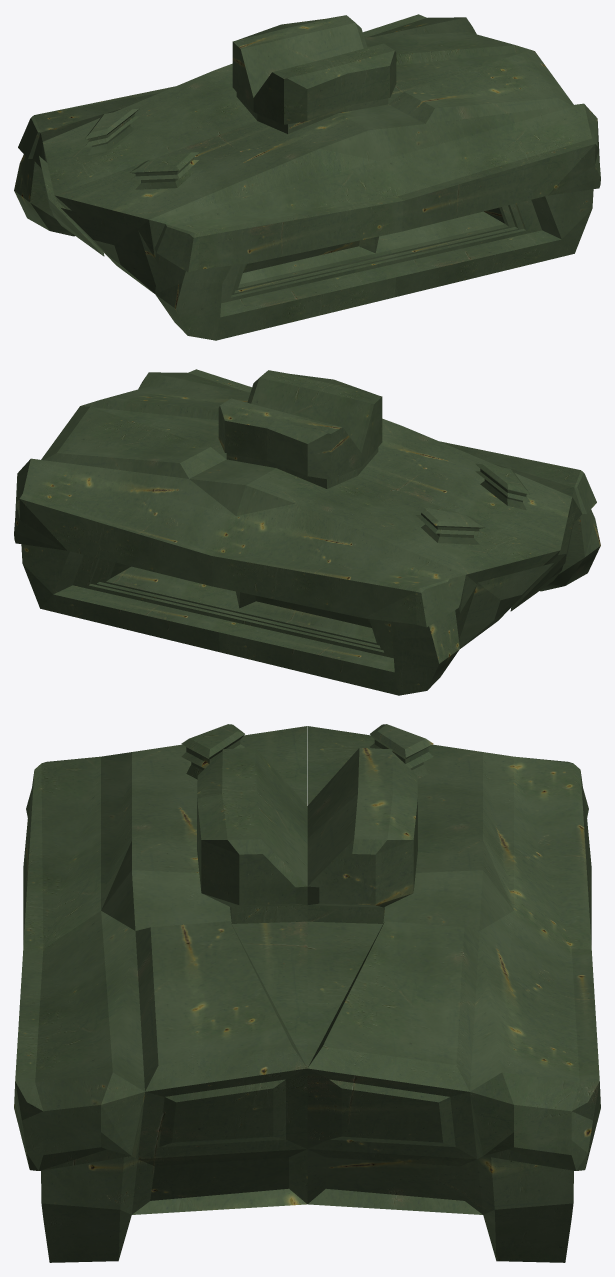
File: Tank.fbx
3 views of the same model, one above another, from view 1: azimuth 30°, elevation 25°; view 2: azimuth 150°, elevation 25°; view 3: azimuth 270°, elevation 25° (orthographic). The views are drawn at different scales.
Visible parts, largest first — view 1: tank_dup2; view 2: tank_dup2; view 3: tank_dup2.
Part boxes in pixels (box(x1,y1,x2,y2)): tank_dup2: box(14, 14, 600, 340); tank_dup2: box(14, 369, 600, 695); tank_dup2: box(14, 724, 600, 1262).
Bounding box in the file's own units: 9.03 × 3.52 × 5.78.
